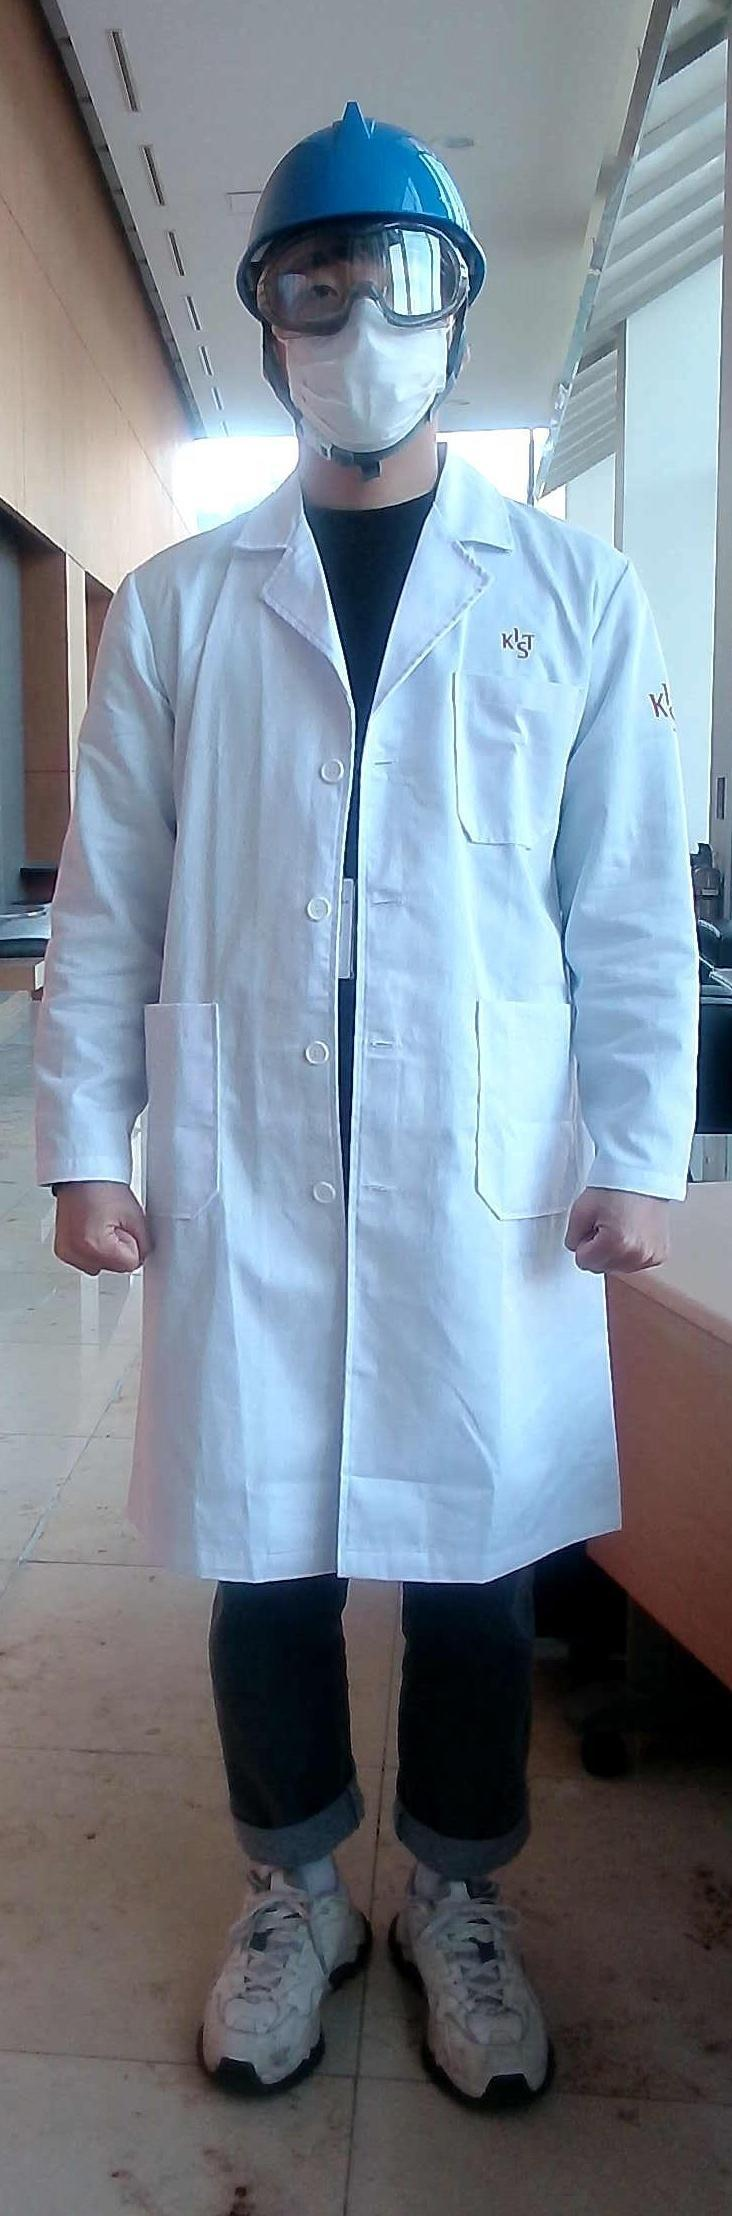lab_coat: (141, 526, 599, 1559)
